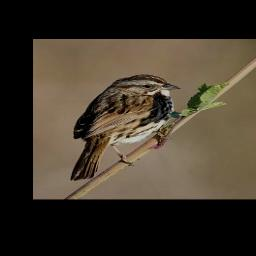Sparrow: (69, 72, 183, 181)
